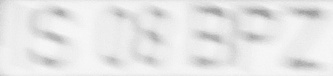0: (96, 5, 139, 68)
8: (184, 2, 238, 71), (135, 1, 173, 69)
I: (5, 3, 25, 68)
P: (237, 2, 280, 72)
S: (29, 4, 77, 70)
Z: (282, 5, 327, 72)
